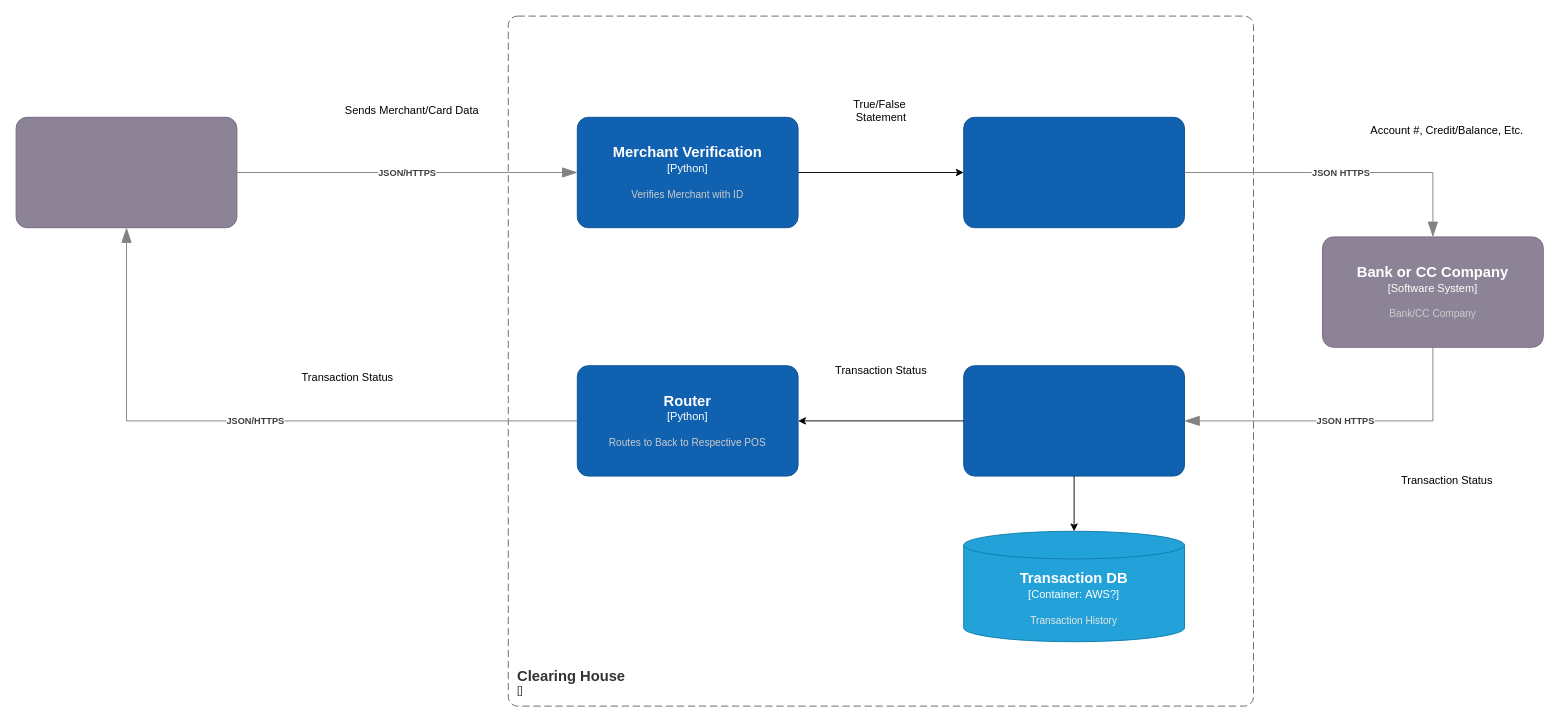
Image size: 1559x722. Some labels were removed from this diagram. The shapes that lost their labels are listed below. From the top down, each one's centre as x and y in pixels, then its label:
At (126,172): "POS [Software System] Point of Sale System".
At (1073,172): "Router [Python] Routes to Respective Bank/CC Company".
At (1073,420): "Recorder [Python] Record Response".
